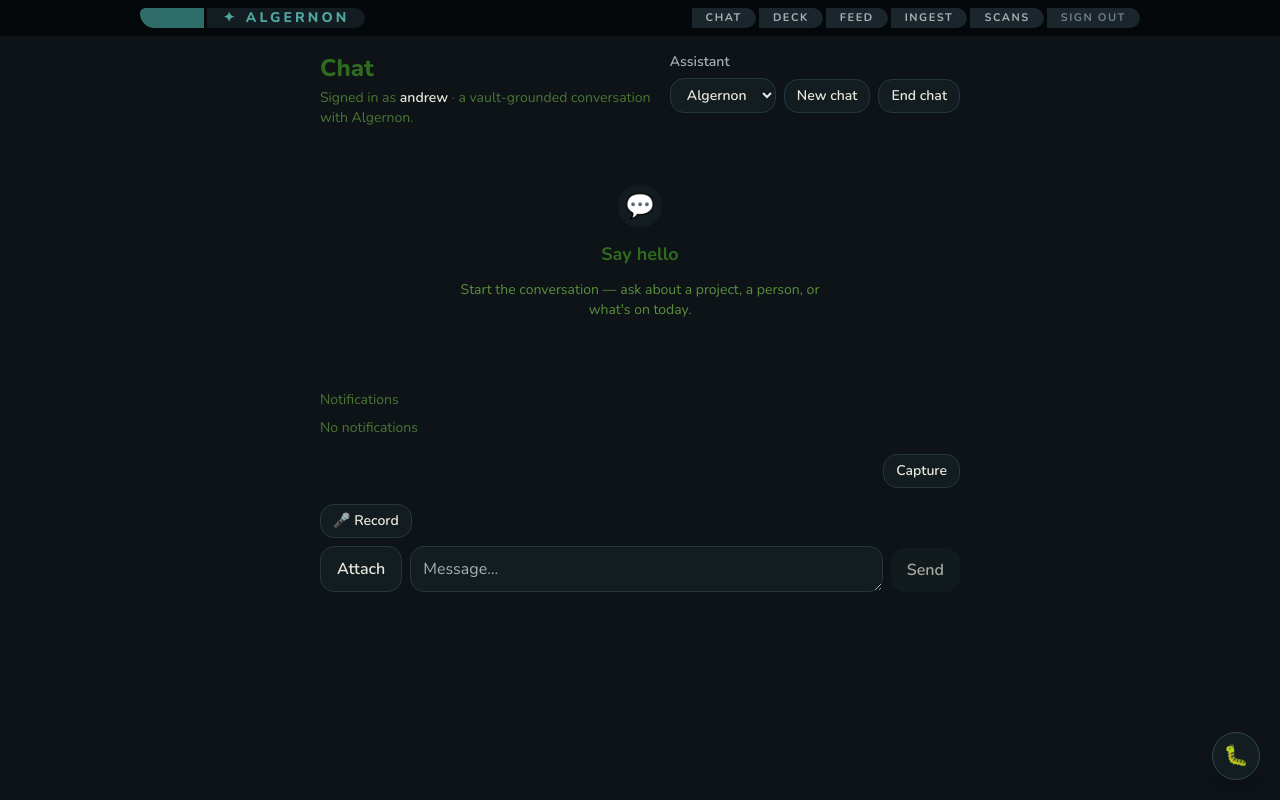
Test case: #99 — the recorded instance is the one being viewed › records the SWITCHED-TO instance, not the build-time home name
The width and height of the screenshot is (1280, 800).
Step 1. Select "Hypatia" in the dropdown with test id "chat-target" → (723, 96), box [670,78,776,113]
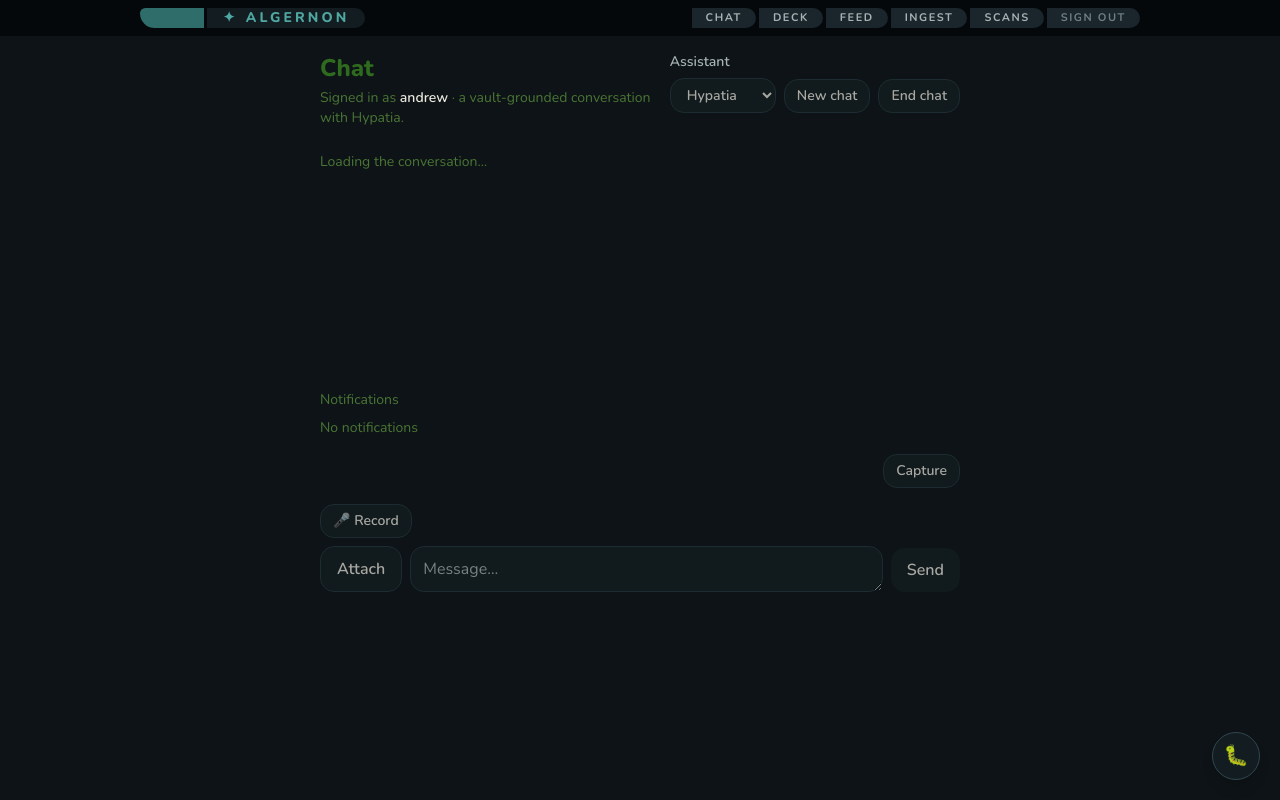
Step 2. Click the button with test id "report-bug-fab" → click(1236, 756), box [1212,732,1260,780]
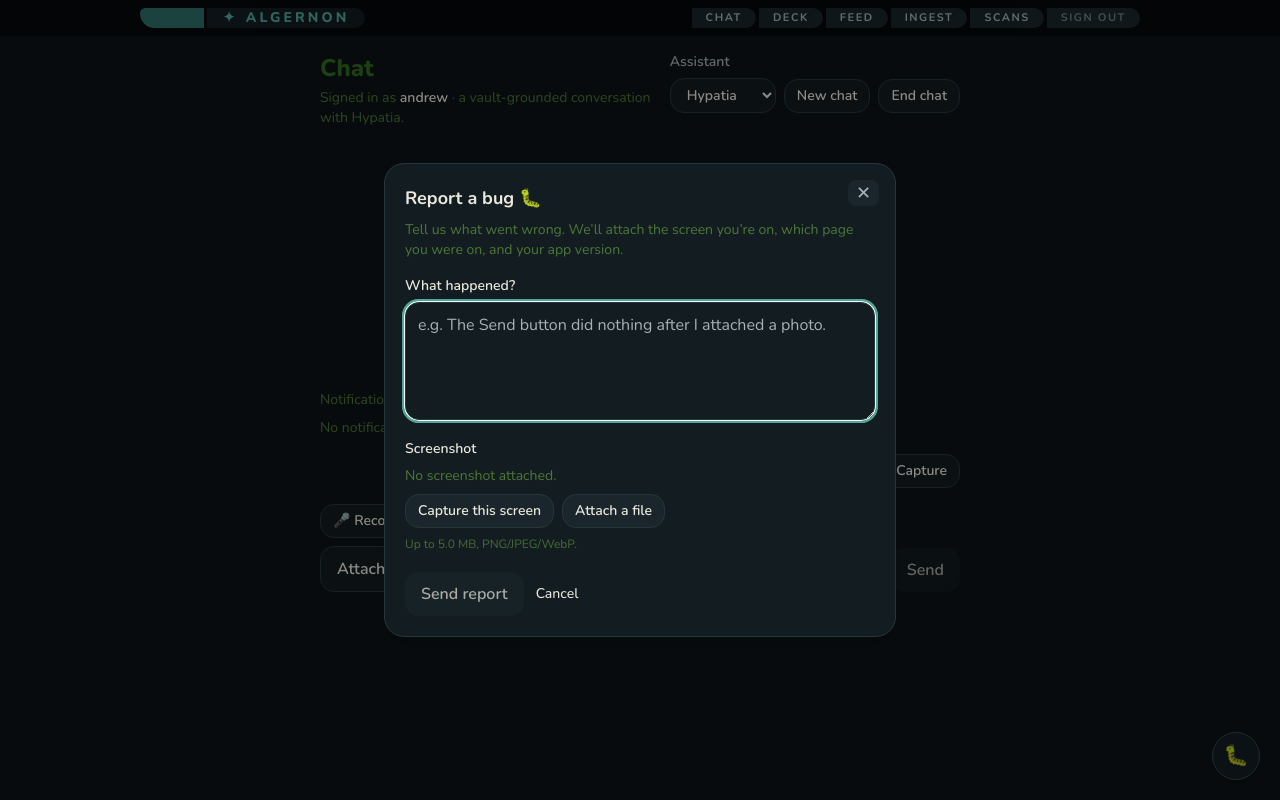
Expected: the dialog with test id "report-bug-modal" is shown, [384,163,896,637]
Step 3. Type "The send button did nothing." into the text box with test id "report-bug-body" → (640, 361), box [405,302,875,420]
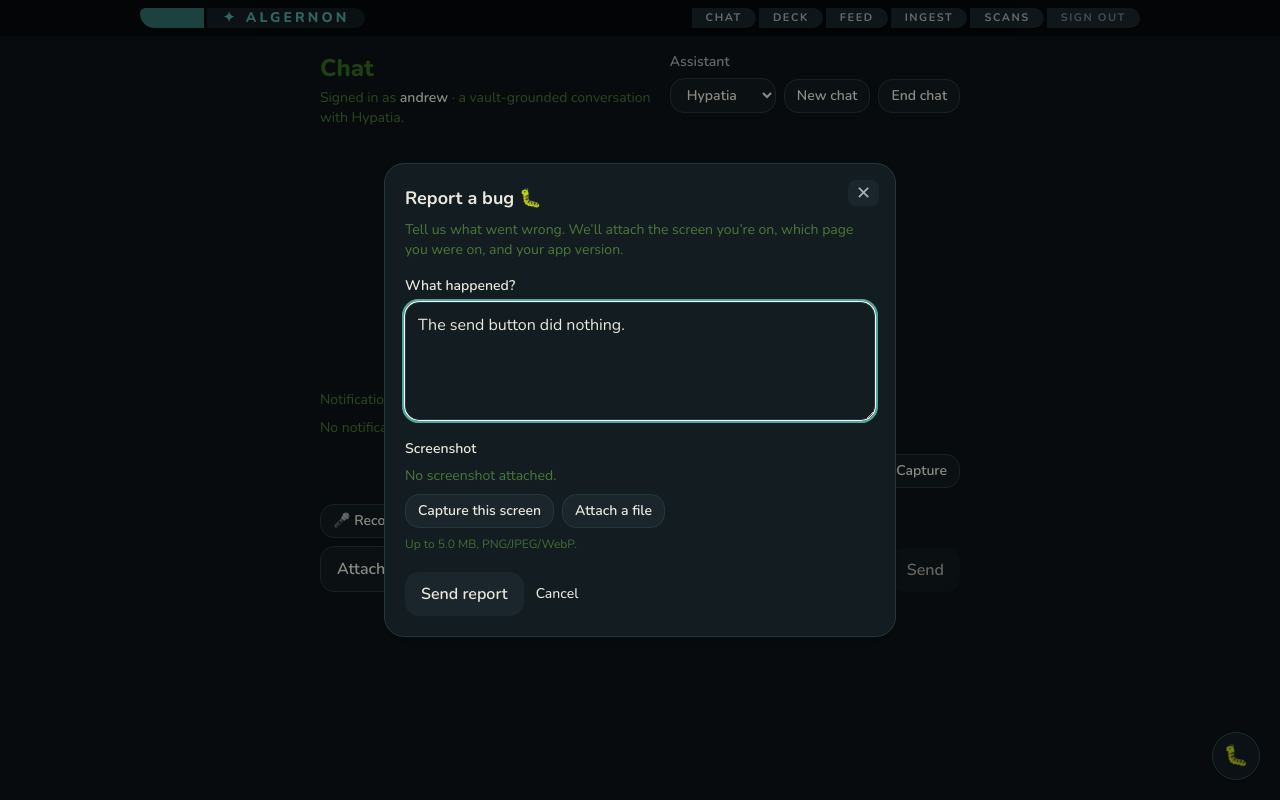
Step 4. Click the button with test id "report-bug-submit" → click(464, 594), box [405,572,524,616]
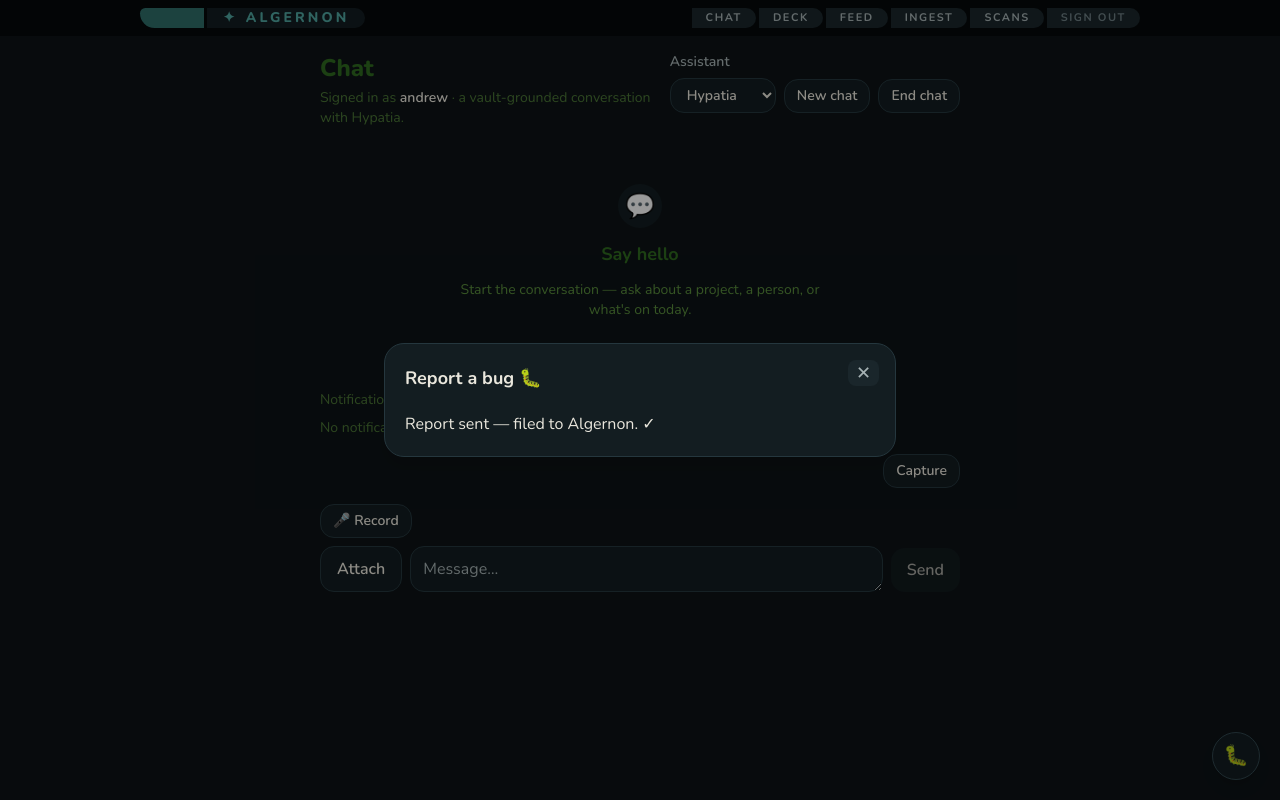
Expected: the text "Report sent — filed to Algernon. ✓" is shown, [405,413,656,435]
